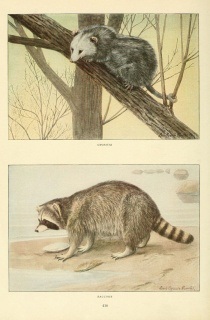Raccoon: (35, 180, 193, 261)
